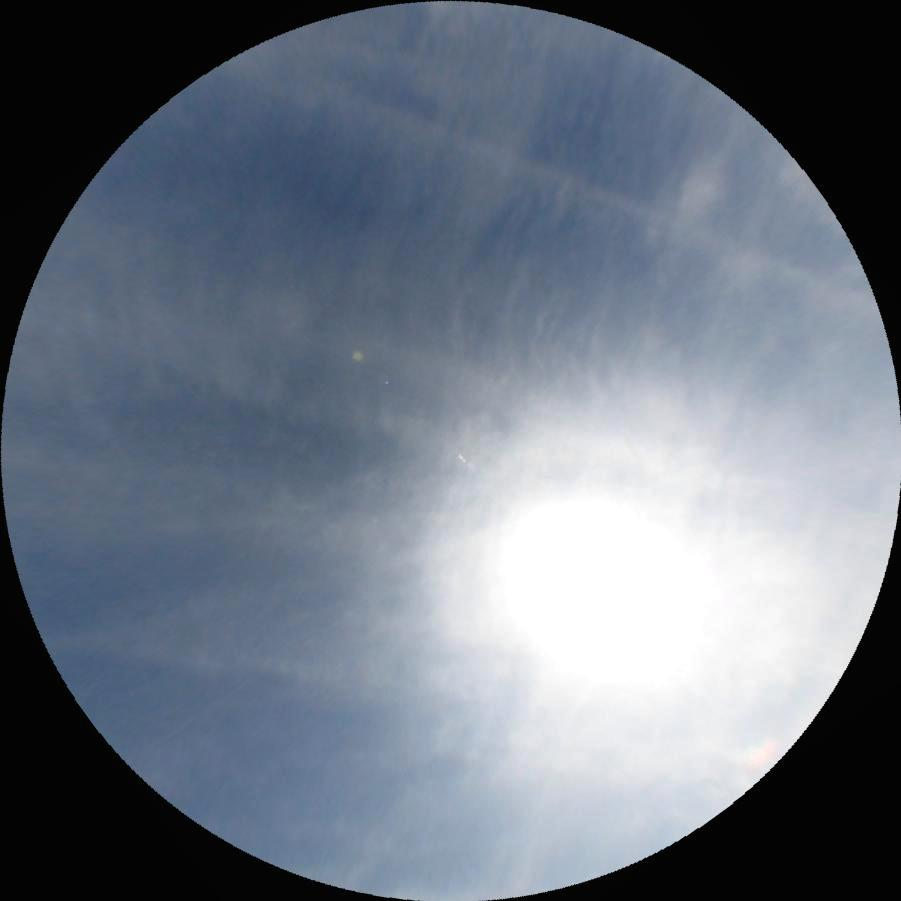contrail veryold: (177, 22, 901, 324)
sun: (480, 472, 694, 685)
